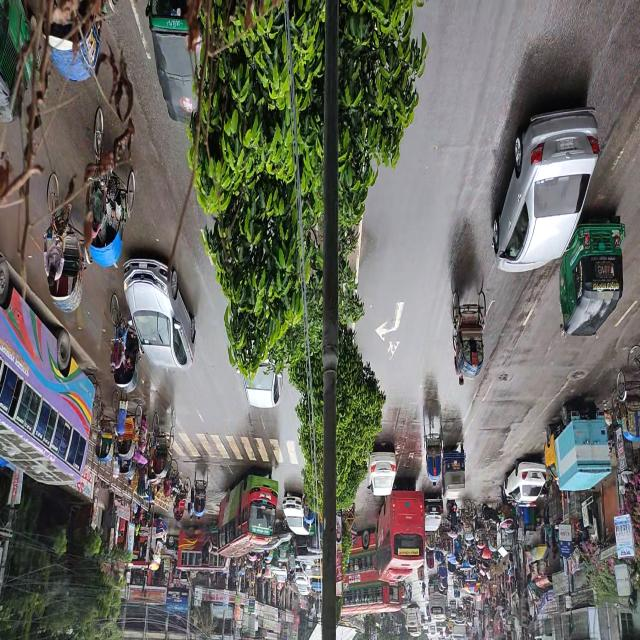silver: (492, 100, 598, 270), (123, 256, 194, 370)
white: (368, 448, 396, 496)
